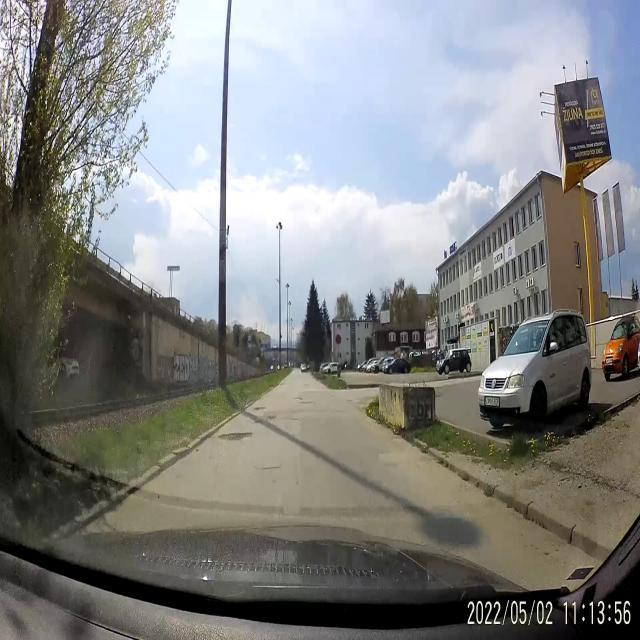Manhole: (254, 406, 267, 412)
Pothole: (218, 429, 256, 446), (300, 400, 316, 406), (266, 416, 278, 420), (292, 396, 302, 400)
